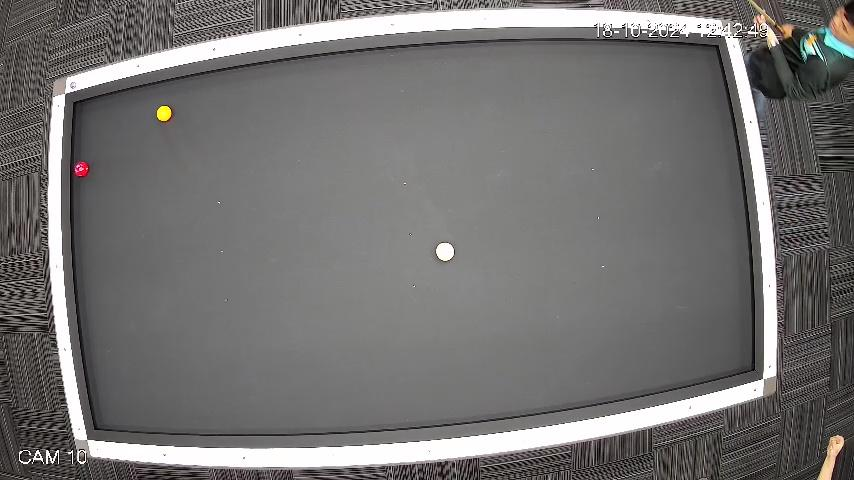Red: (72, 160, 90, 178)
White: (435, 241, 456, 262)
Yellow: (156, 104, 172, 123)
